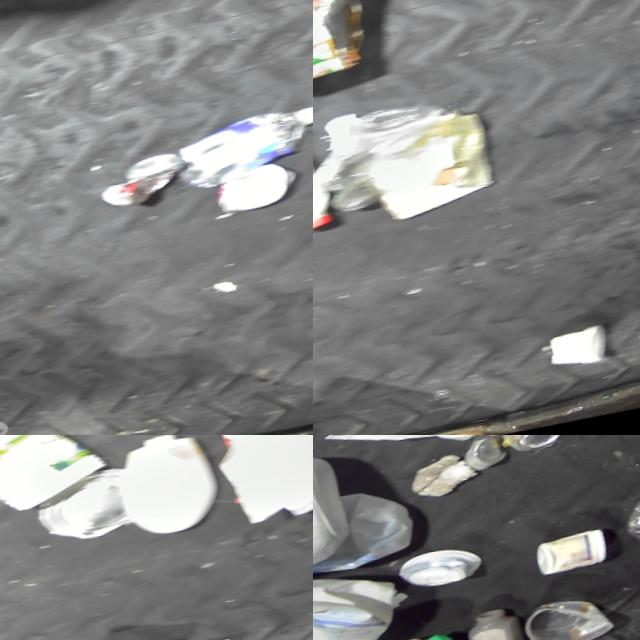can: (38, 469, 141, 553), (101, 152, 193, 213), (401, 545, 494, 597), (539, 532, 620, 584), (465, 435, 516, 477), (502, 435, 575, 462)
milk_jug: (208, 435, 313, 539), (313, 559, 426, 640)
non_white_jug: (175, 106, 313, 195), (313, 444, 363, 598)
